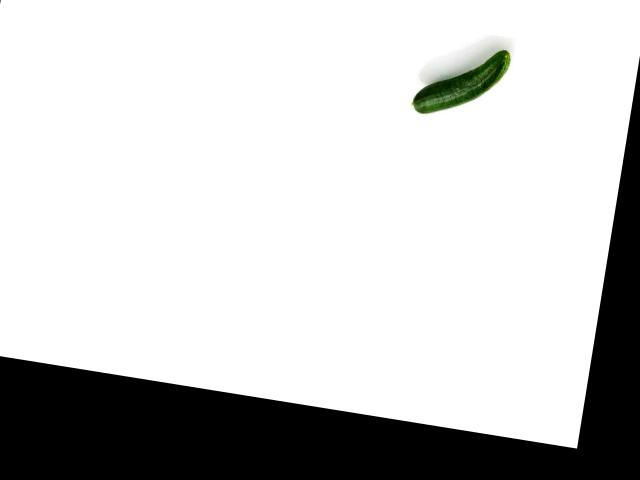cucumber: (411, 36, 511, 125)
